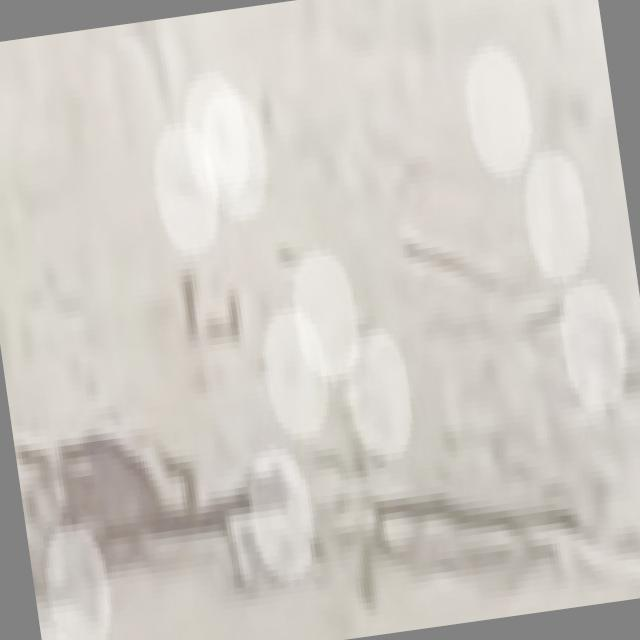crack: (360, 424, 560, 556)
